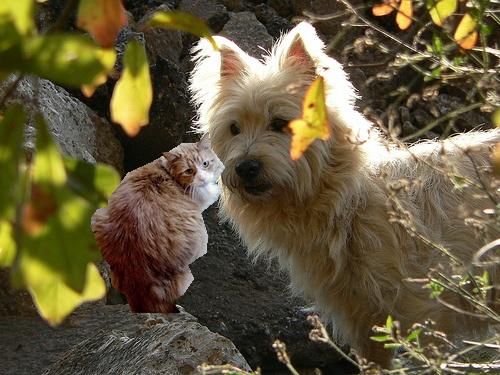tampered: (91, 133, 225, 313)
